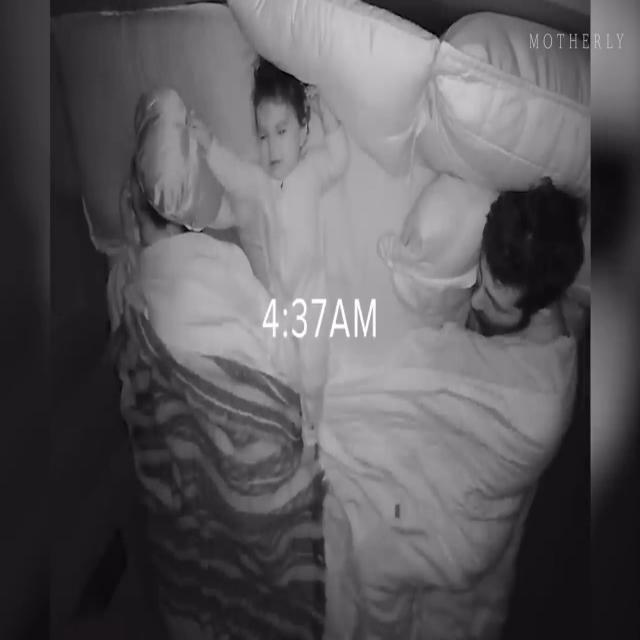baby: (188, 53, 347, 439)
